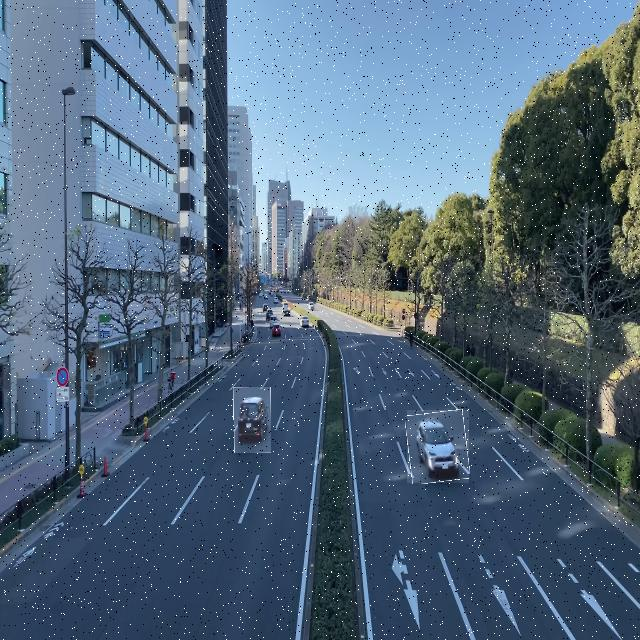Car: (407, 410, 469, 483), (234, 387, 271, 453)
